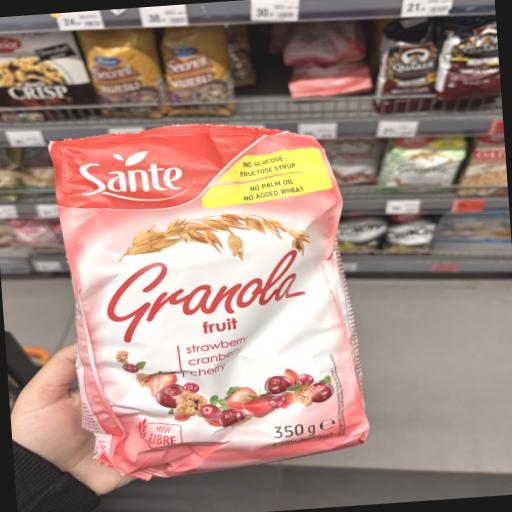granola: (22, 102, 396, 500)
